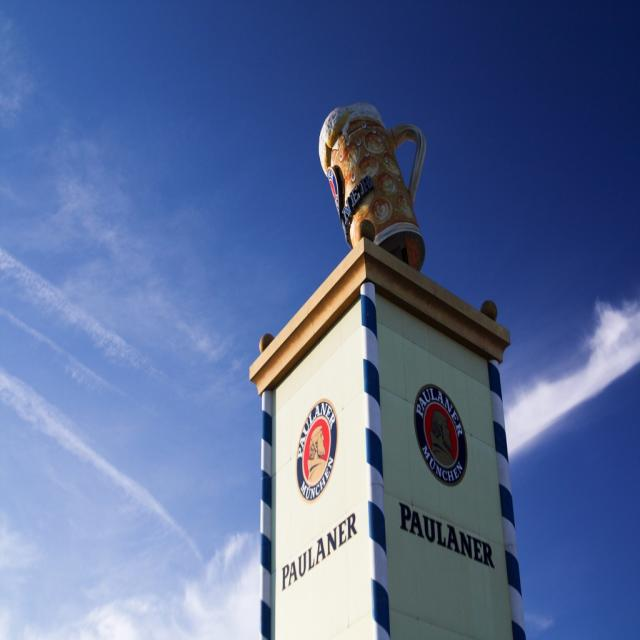paulaner: (414, 386, 468, 487), (298, 401, 339, 501)
